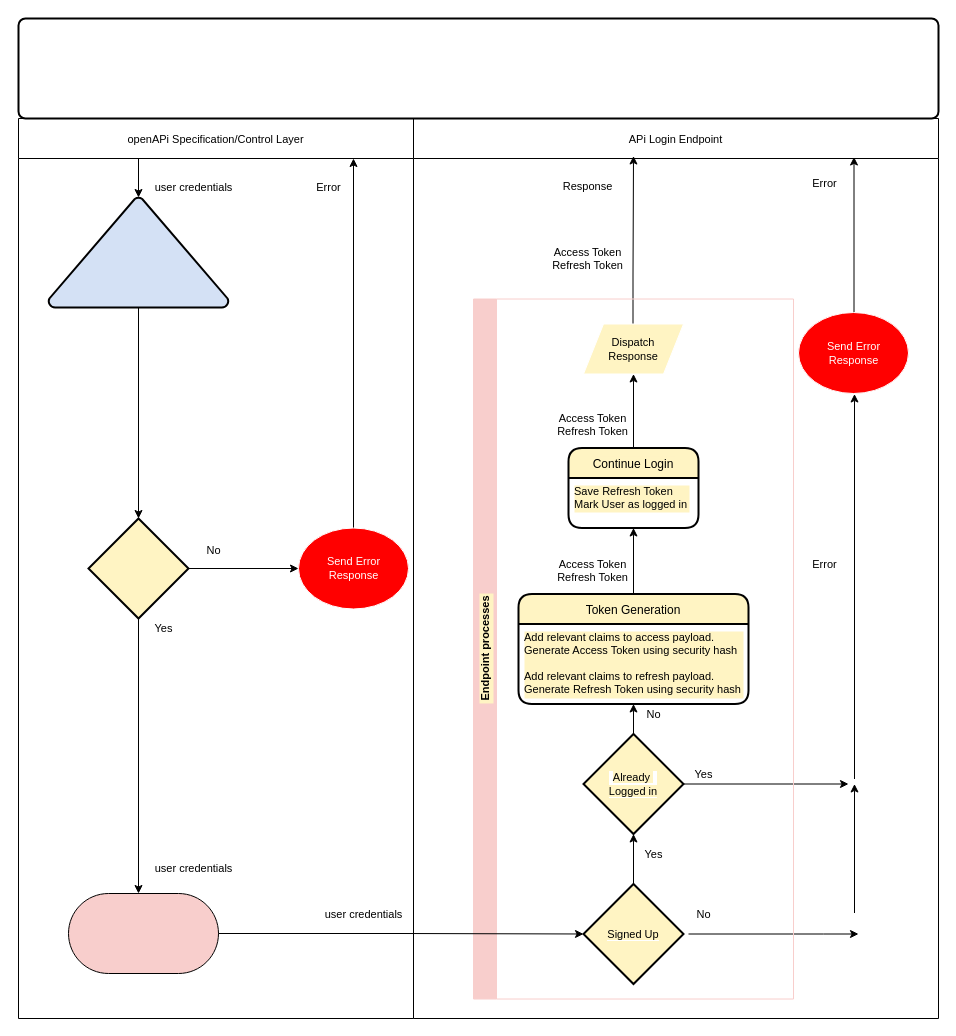
Image size: 956x1036. Some labels were removed from this diagram. Each missing label, with the centre of its shape:
API LAYER Login - Request Login Response: (x=478, y=68)
Check incoming request against specification: (x=138, y=252)
OK: (x=138, y=568)
Run Login Endpoint: (x=143, y=933)
